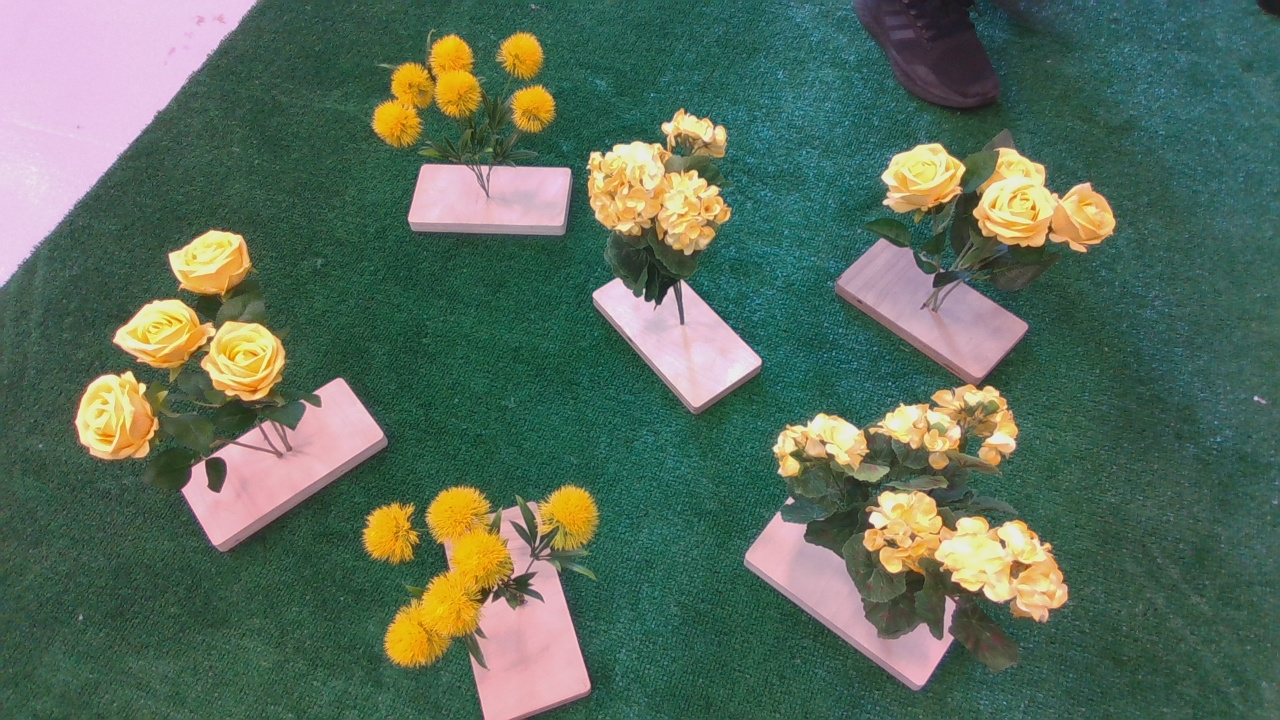dandelion: (354, 482, 612, 675), (361, 29, 566, 161)
geranium: (762, 385, 1112, 661), (587, 113, 758, 308)
rose: (74, 230, 302, 488), (855, 118, 1127, 304)
